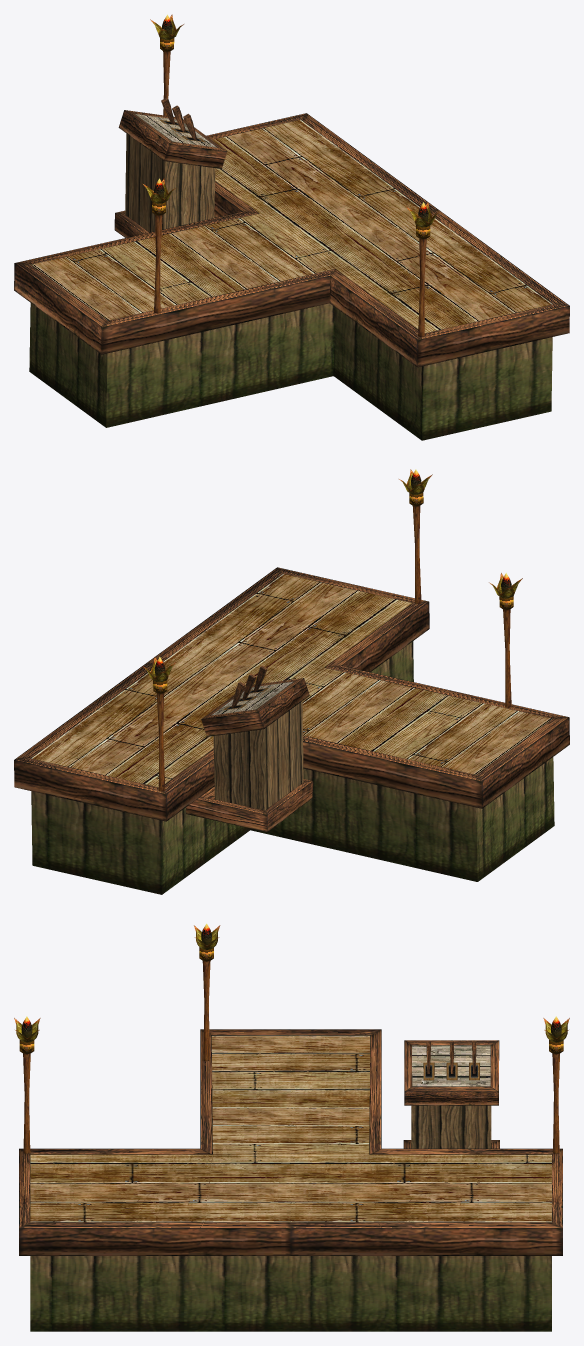
The model's file is INST_WH2_FIRST_BLOCK.fbx.
The picture shows the model from 3 angles, top to bottom: view 1: azimuth 30°, elevation 25°; view 2: azimuth 150°, elevation 25°; view 3: azimuth 270°, elevation 25°; orthographic projection. The views are drawn at different scales.
Visible parts, largest first — view 1: INST_WH2_FIRST_BLOCK; view 2: INST_WH2_FIRST_BLOCK; view 3: INST_WH2_FIRST_BLOCK.
Part boxes in pixels (x1,y1,x2,y2): INST_WH2_FIRST_BLOCK: [14, 14, 569, 440]; INST_WH2_FIRST_BLOCK: [14, 469, 569, 894]; INST_WH2_FIRST_BLOCK: [14, 923, 569, 1331].
Size of the model in its own units: 50056 by 30882 by 61303.
10 materials, 10 textured.
